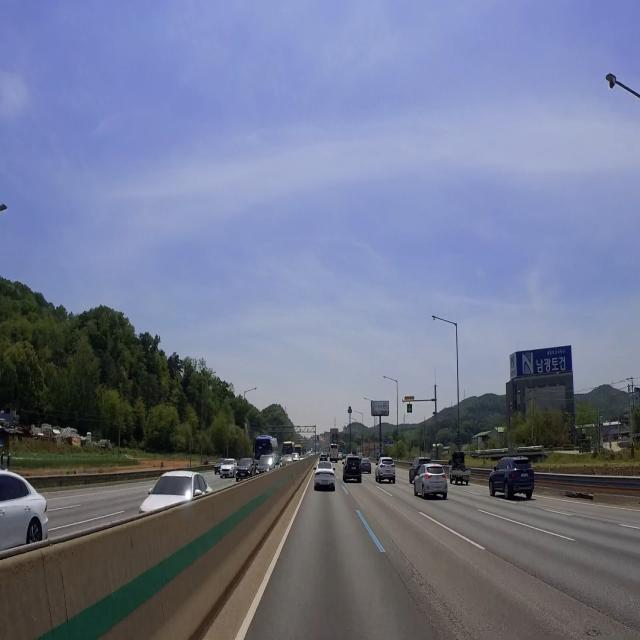car: (319, 476, 333, 489), (430, 484, 447, 494), (349, 463, 360, 477), (519, 471, 531, 482), (384, 470, 394, 483)
